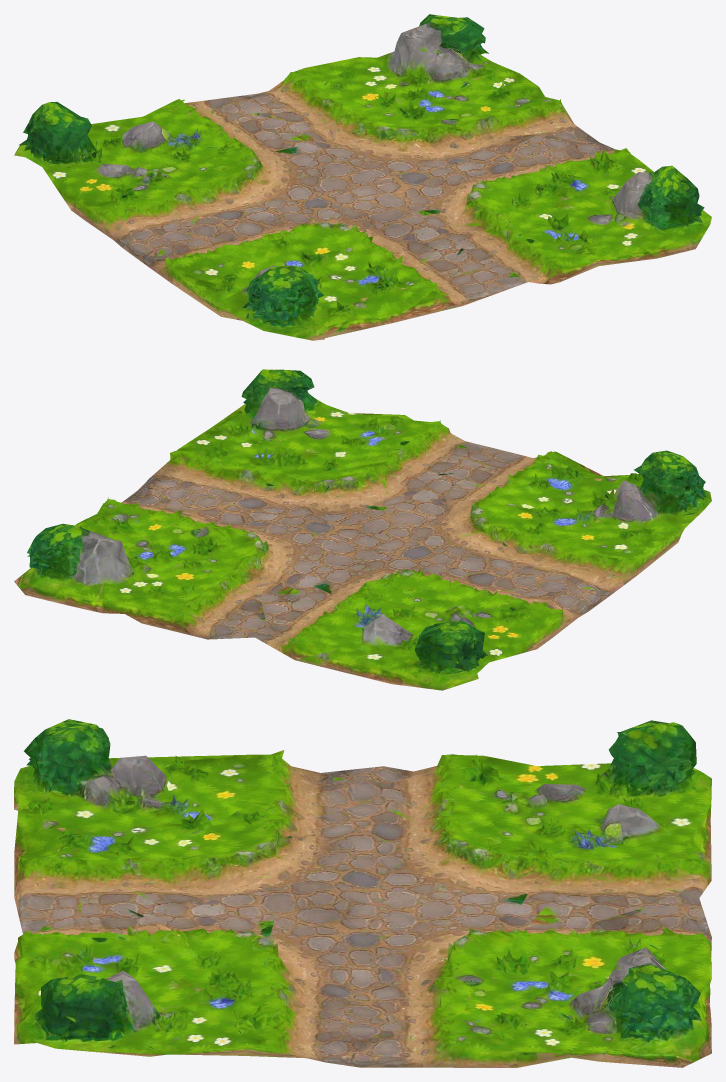
Rendered from crossroads.glb.
The picture shows the model from 3 angles, top to bottom: view 1: azimuth 30°, elevation 25°; view 2: azimuth 150°, elevation 25°; view 3: azimuth 270°, elevation 25°; orthographic projection. The views are drawn at different scales.
Size of the model in its own units: 1.9 by 0.2279 by 1.9.
1 material, 1 textured.
